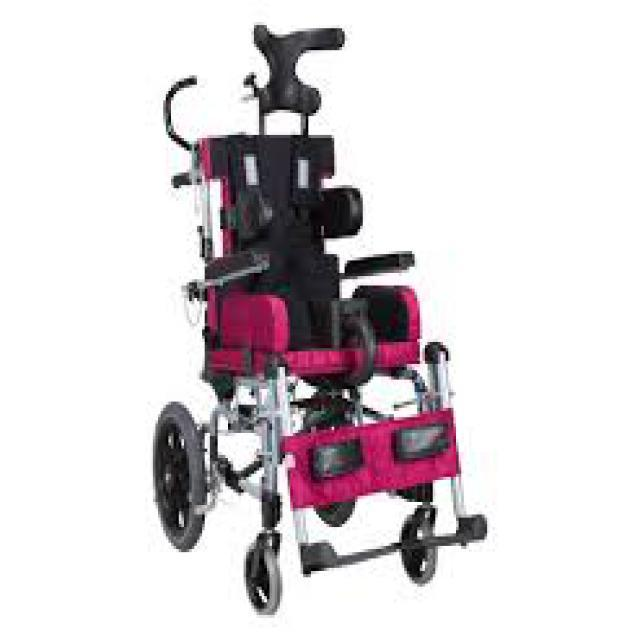wheelchair: (59, 3, 518, 631)
